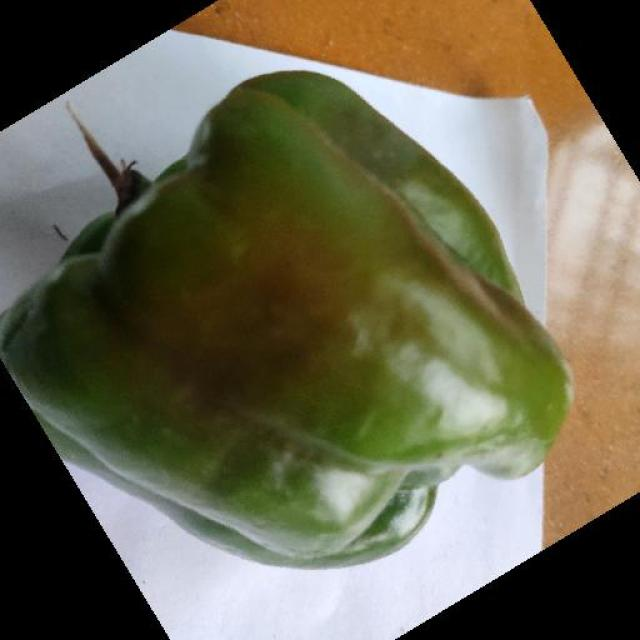Stale_Capsicum: (57, 93, 503, 534)
